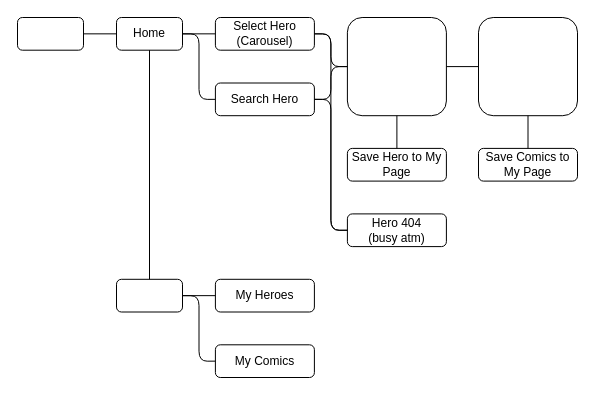
This 595x395 diagram has some shape labels left out. The shapes that lost their labels are listed below. From the top down, each one's centre as x and y in pixels, then its label:
the point at 50,33: User
the point at 396,66: Hero Page -Thumbnail -Name -ID -Description -Comics carousel
the point at 528,66: Comic Page -Title -Issue # -Description -Page Count -Text (back flip)
the point at 149,295: My Page
